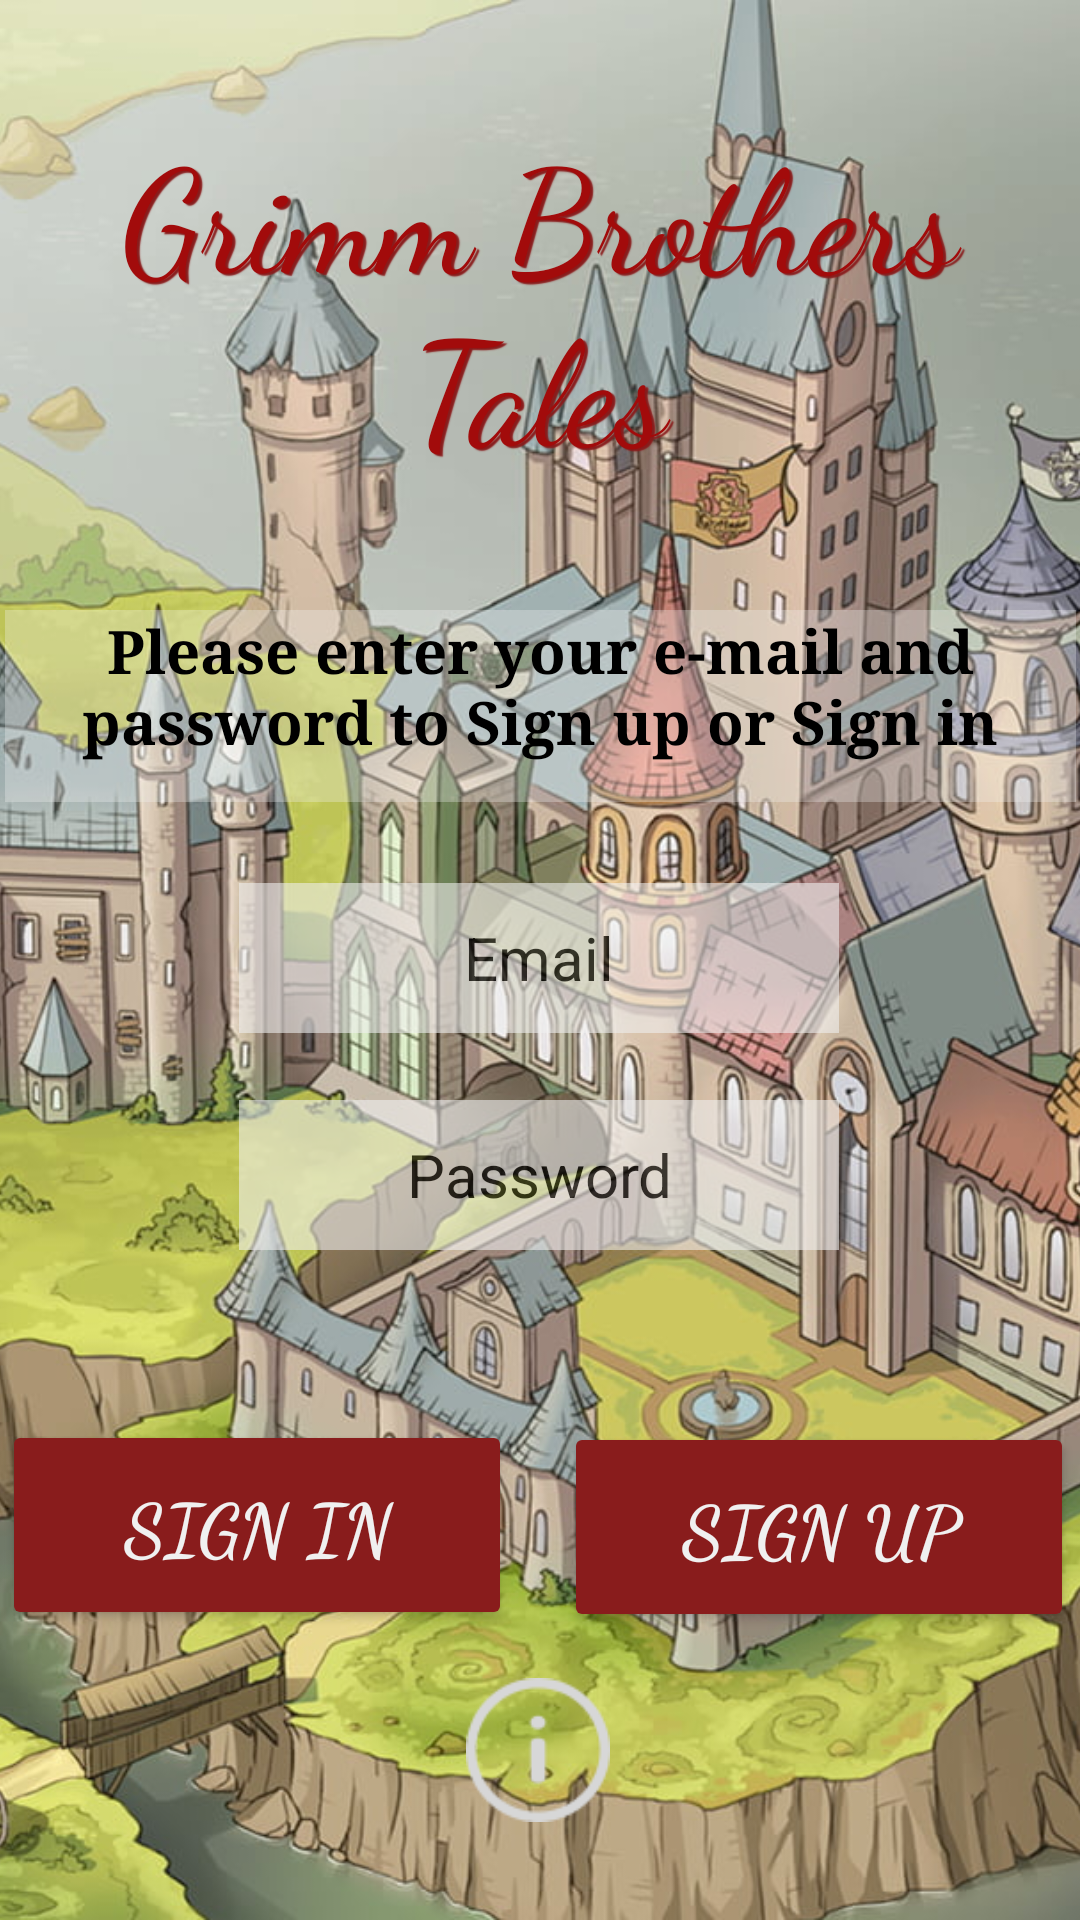

Where to tap for icons on this 1080*1920 app screen, as point (x, y):
Info: point (538, 1750)
